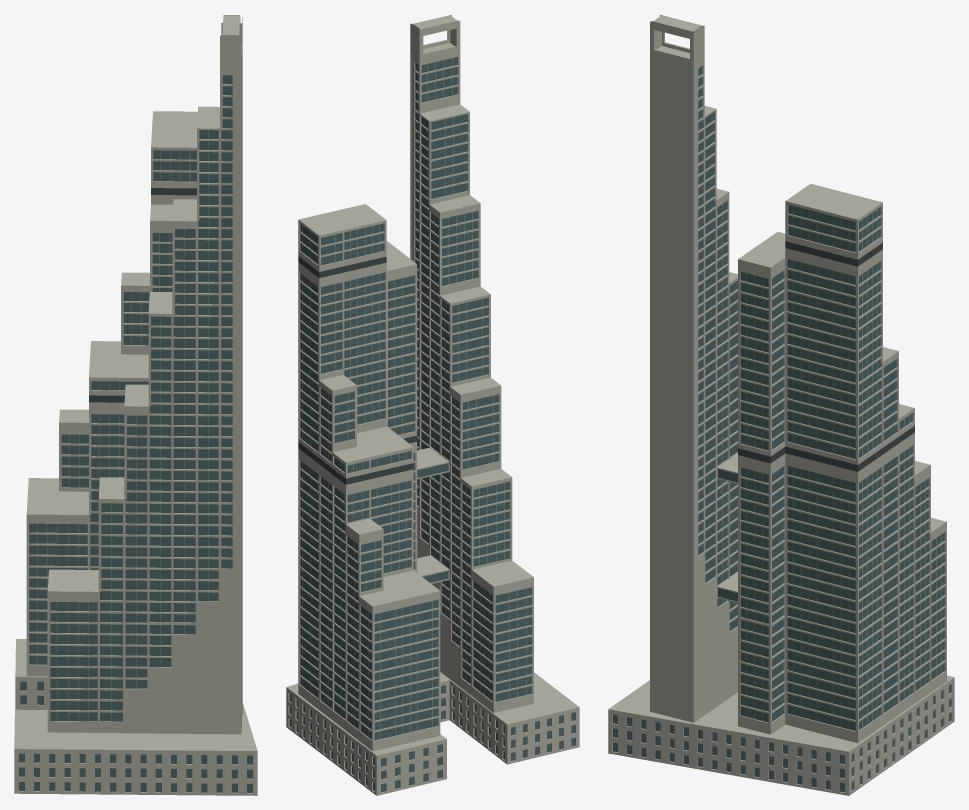
Rendered from bd-bacata-near.glb.
3 renders of one model, left to right at view 1: azimuth 30°, elevation 25°; view 2: azimuth 150°, elevation 25°; view 3: azimuth 270°, elevation 25°, orthographic. The views are drawn at different scales.
Parts seen in each view (by area): view 1: bd-bacata-0-stone, bd-bacata-0-glass, bd-bacata-0-shadow; view 2: bd-bacata-0-stone, bd-bacata-0-glass, bd-bacata-0-shadow; view 3: bd-bacata-0-stone, bd-bacata-0-glass, bd-bacata-0-shadow.
Part boxes in pixels (bbox=[...]): bd-bacata-0-stone: bbox=[14, 15, 257, 795]; bd-bacata-0-glass: bbox=[19, 75, 252, 792]; bd-bacata-0-shadow: bbox=[89, 188, 196, 402]; bd-bacata-0-stone: bbox=[286, 15, 579, 795]; bd-bacata-0-glass: bbox=[289, 57, 575, 792]; bd-bacata-0-shadow: bbox=[298, 256, 417, 484]; bd-bacata-0-stone: bbox=[608, 15, 954, 795]; bd-bacata-0-glass: bbox=[613, 66, 950, 792]; bd-bacata-0-shadow: bbox=[738, 241, 914, 471].
Bounding box in the file's own units: 81.73 × 216 × 92.42.
